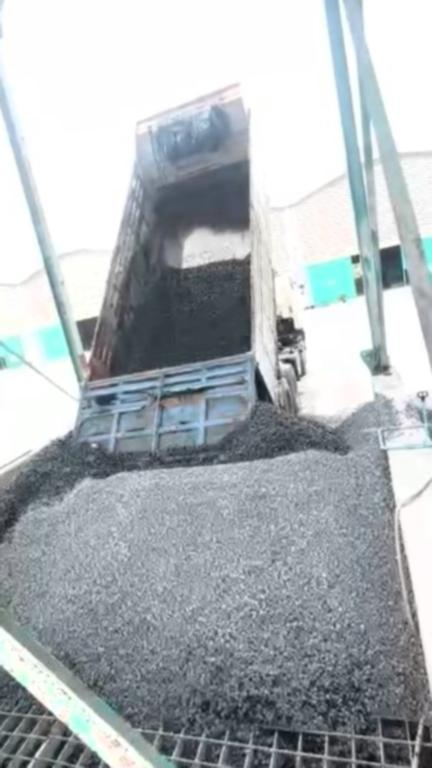gravel: (0, 390, 420, 731), (116, 260, 248, 373), (0, 627, 31, 711)
sand: (0, 435, 10, 506)
